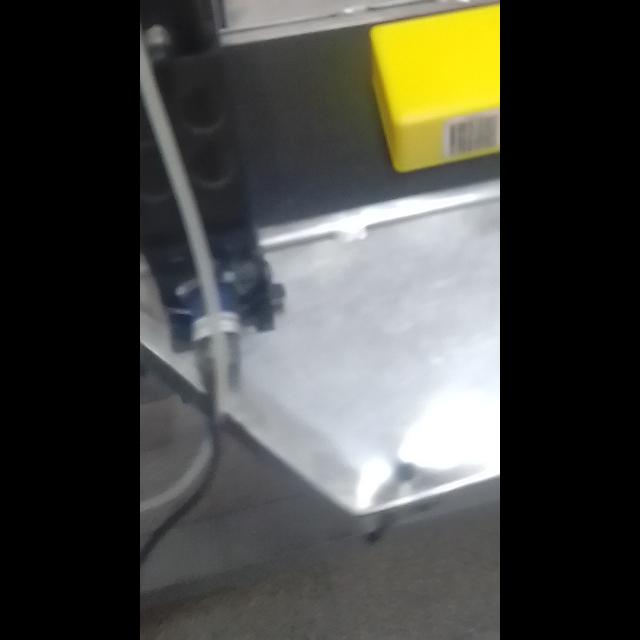yellowBox: (350, 0, 500, 194)
